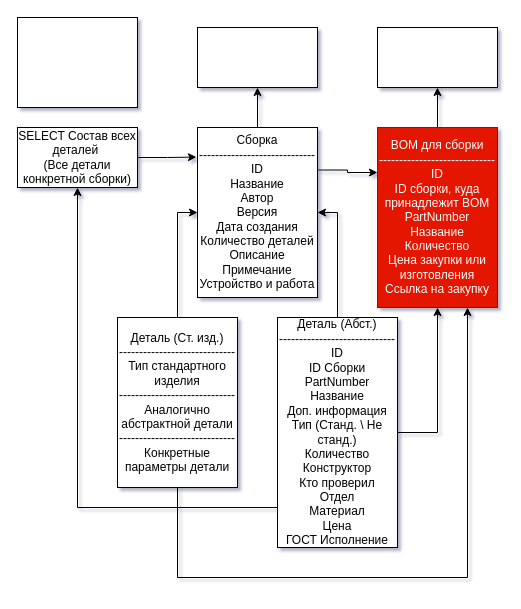
This 521x609 diagram has some shape labels left out. The shapes that lost their labels are listed below. From the top down, each one's centre as x and y in pixels, then its label:
At point 77,62: "SELECT Вывод всех стандартных изделий одного типа с конретно их параметрами".
At point 257,57: "SELECT Сборки (Все сборки)".
At point 437,57: "SELECT BOM (БОМ для конкретной сборки)".
